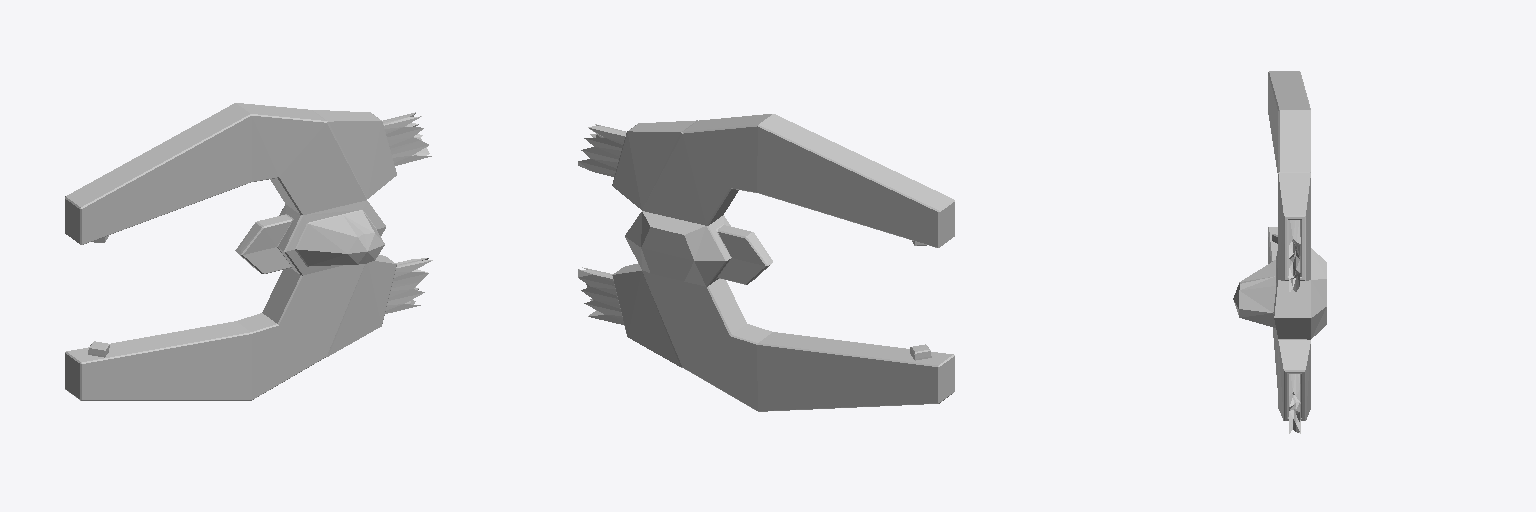
File: spaceship.obj
3 renders of one model, left to right at view 1: azimuth 30°, elevation 25°; view 2: azimuth 150°, elevation 25°; view 3: azimuth 270°, elevation 25°, orthographic.
Parts seen in each view (by area): view 1: Cube.001_Mesh, Cube.002_Mesh; view 2: Cube.001_Mesh, Cube.002_Mesh; view 3: Cube.001_Mesh, Cube.002_Mesh.
Boxes of the visible parts, <box> form: Cube.001_Mesh: <box>65,103,396,400</box>; Cube.002_Mesh: <box>382,112,432,313</box>; Cube.001_Mesh: <box>612,114,954,411</box>; Cube.002_Mesh: <box>578,124,626,324</box>; Cube.001_Mesh: <box>1233,71,1326,420</box>; Cube.002_Mesh: <box>1289,220,1300,433</box>.
Size of the model in its own units: 23.44 by 17.7 by 5.23.